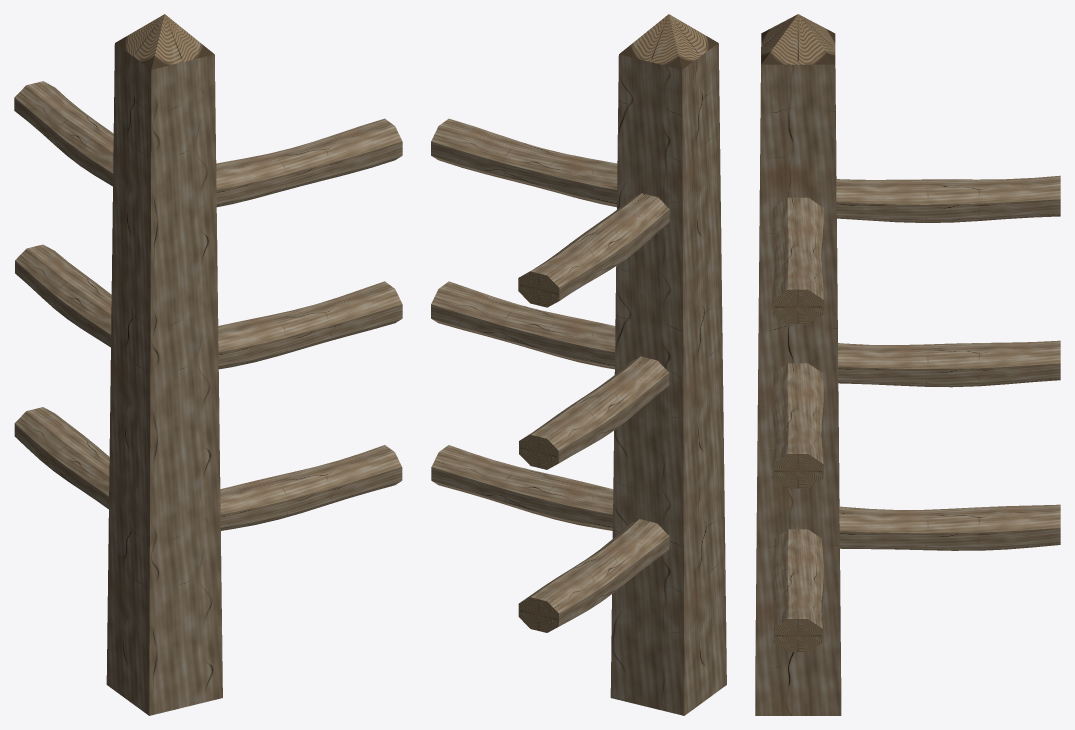
File: fence_split_rail_corner.fbx
3 renders of one model, left to right at view 1: azimuth 30°, elevation 25°; view 2: azimuth 150°, elevation 25°; view 3: azimuth 270°, elevation 25°, orthographic.
Visible parts, largest first — view 1: FenceSplitRailCornerMesh.001; view 2: FenceSplitRailCornerMesh.001; view 3: FenceSplitRailCornerMesh.001.
Boxes of the visible parts, x1,y1,x2,y2 form: FenceSplitRailCornerMesh.001: [14, 14, 402, 715]; FenceSplitRailCornerMesh.001: [431, 14, 726, 715]; FenceSplitRailCornerMesh.001: [755, 14, 1060, 715].
Size of the model in its own units: 1.63 by 1.63 by 4.02.
